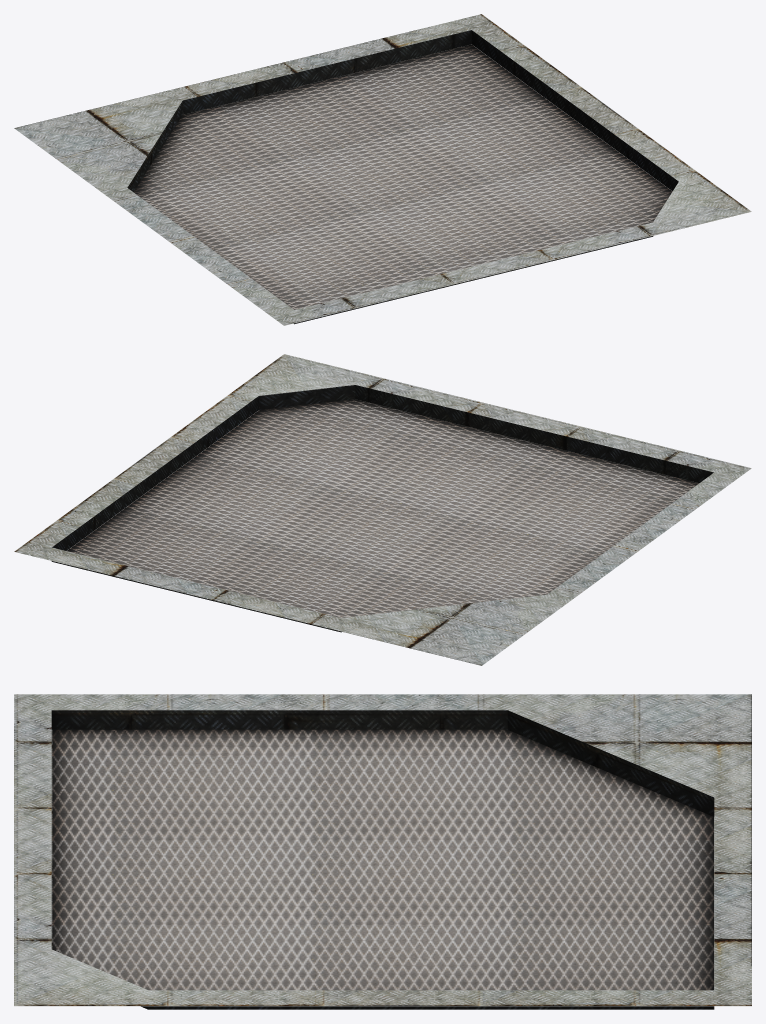
File: Floor01.fbx
3 views of the same model, one above another, from view 1: azimuth 30°, elevation 25°; view 2: azimuth 150°, elevation 25°; view 3: azimuth 270°, elevation 25° (orthographic). The views are drawn at different scales.
Visible parts, largest first — view 1: Plane.200; view 2: Plane.200; view 3: Plane.200.
Boxes of the visible parts, bbox=[...] form: Plane.200: bbox=[14, 14, 751, 325]; Plane.200: bbox=[14, 354, 751, 665]; Plane.200: bbox=[14, 694, 751, 1009].
Bounding box in the file's own units: 200 × 5.84 × 200.
